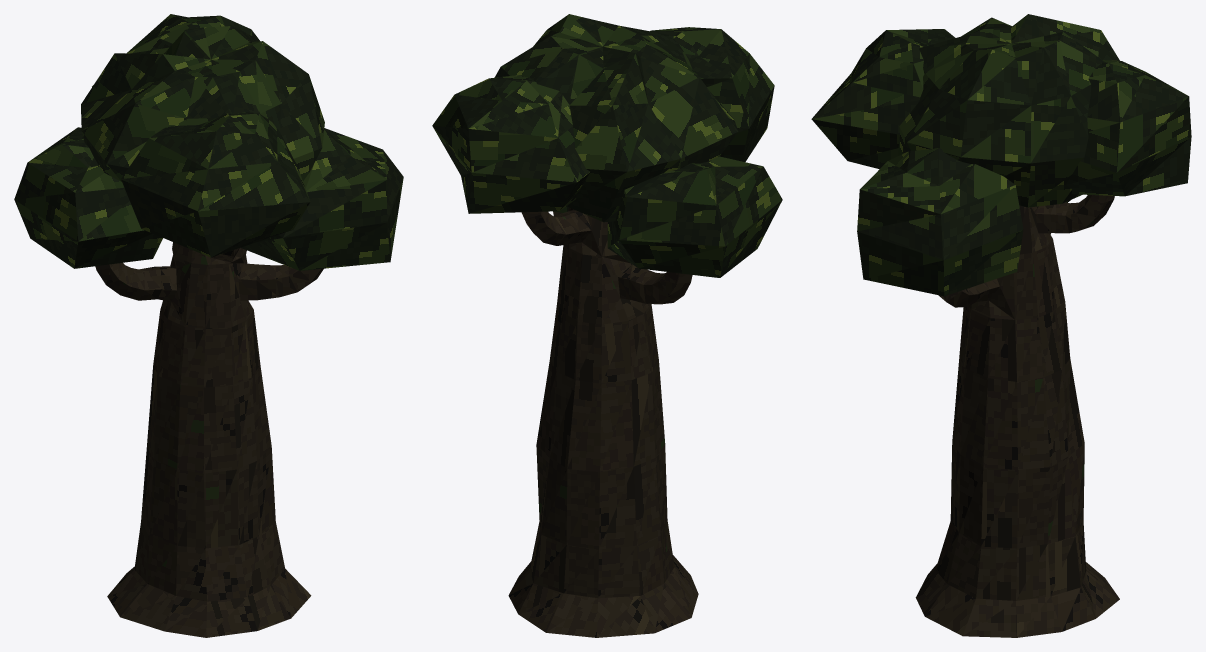
The model's file is forest_tree_prop_b.glb.
3 renders of one model, left to right at view 1: azimuth 30°, elevation 25°; view 2: azimuth 150°, elevation 25°; view 3: azimuth 270°, elevation 25°, orthographic. The views are drawn at different scales.
Parts seen in each view (by area): view 1: ForestTreePropB; view 2: ForestTreePropB; view 3: ForestTreePropB.
Boxes of the visible parts, bbox=[...] form: ForestTreePropB: bbox=[14, 14, 403, 637]; ForestTreePropB: bbox=[432, 14, 782, 637]; ForestTreePropB: bbox=[811, 14, 1191, 637].
Size of what is drawn, in the model's own units: 4.83 by 8.01 by 4.85.
Materials: 1 (1 with a texture image).
